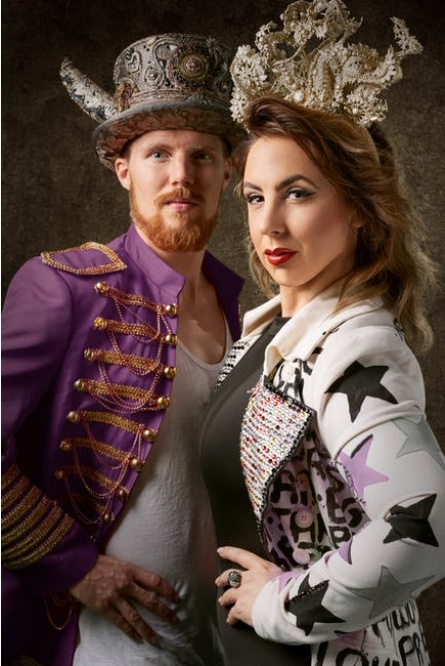face: (242, 138, 342, 286), (128, 128, 225, 247)
